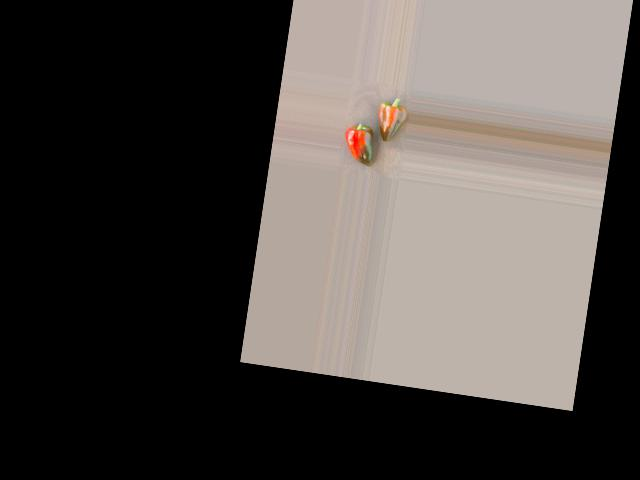bell_pepper: (339, 107, 381, 169)
